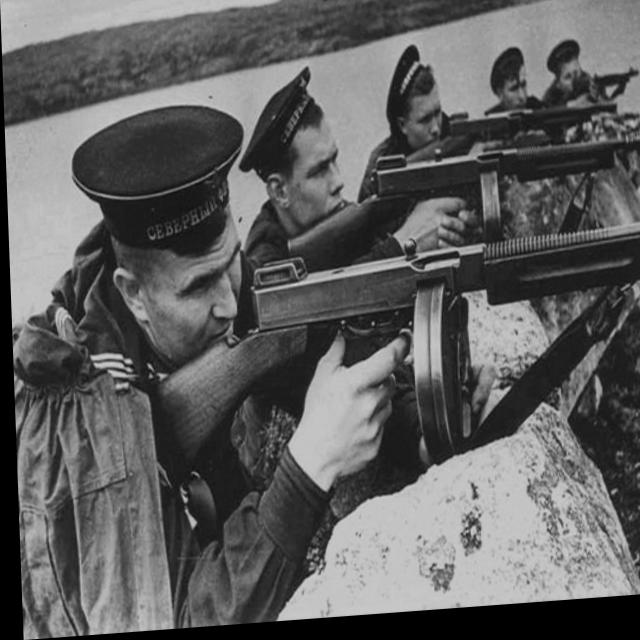other: (5, 104, 294, 628)
